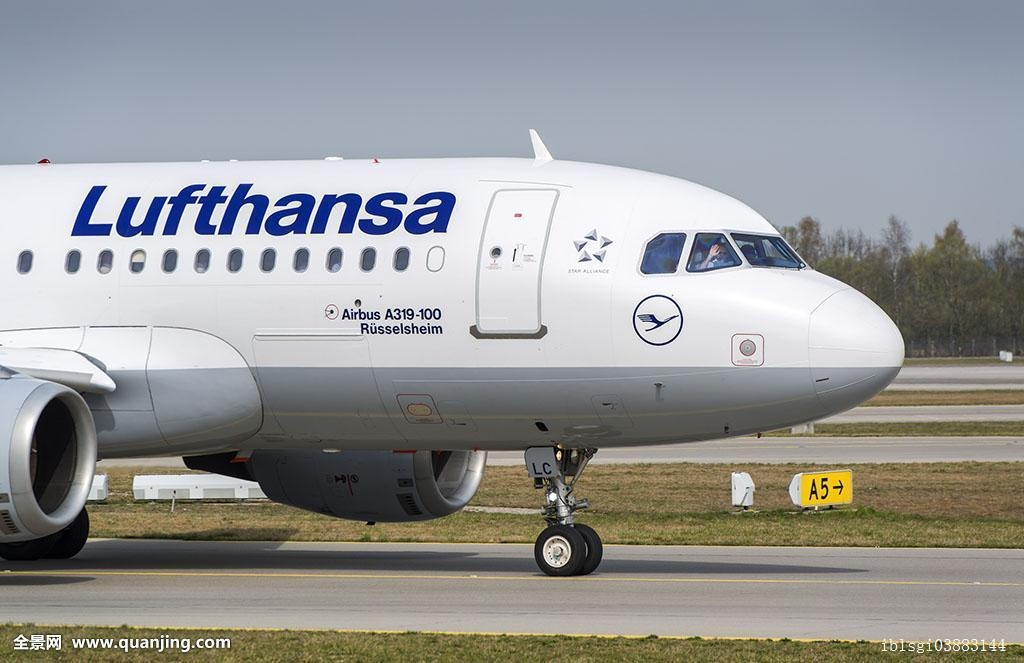airplane: (3, 131, 908, 552)
